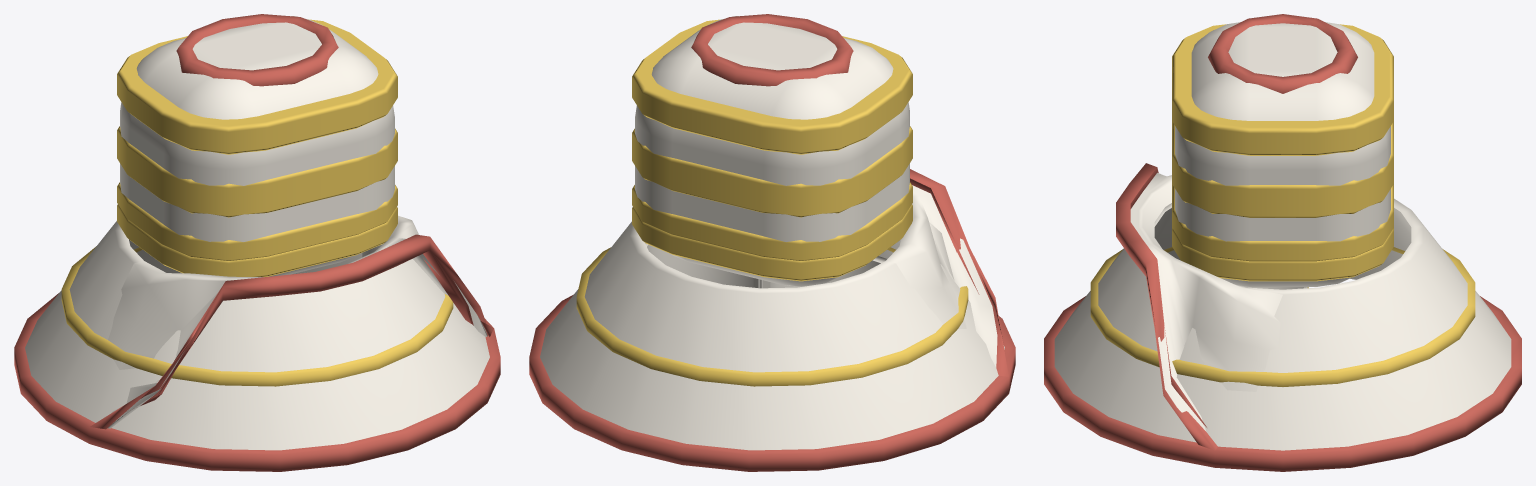
The model's file is cheerleading_uniform.glb.
The picture shows the model from 3 angles, left to right: view 1: azimuth 30°, elevation 25°; view 2: azimuth 150°, elevation 25°; view 3: azimuth 270°, elevation 25°; orthographic projection.
Visible parts, largest first — view 1: cheerleading_uniform_Body, cheerleading_uniform_Body_sit; view 2: cheerleading_uniform_Body, cheerleading_uniform_Body_sit, cheerleading_uniform_LegR_sit, cheerleading_uniform_LegL_sit; view 3: cheerleading_uniform_Body, cheerleading_uniform_Body_sit.
Part boxes in pixels (x1,y1,x2,y2): cheerleading_uniform_Body: (14, 14, 500, 471); cheerleading_uniform_Body_sit: (90, 19, 493, 429); cheerleading_uniform_Body: (529, 14, 1015, 471); cheerleading_uniform_Body_sit: (632, 19, 1008, 376); cheerleading_uniform_LegR_sit: (645, 243, 762, 288); cheerleading_uniform_LegL_sit: (758, 256, 886, 288); cheerleading_uniform_Body: (1044, 14, 1521, 471); cheerleading_uniform_Body_sit: (1116, 24, 1397, 450).
Size of the model in its own units: 0.648 by 0.5289 by 0.6414.
